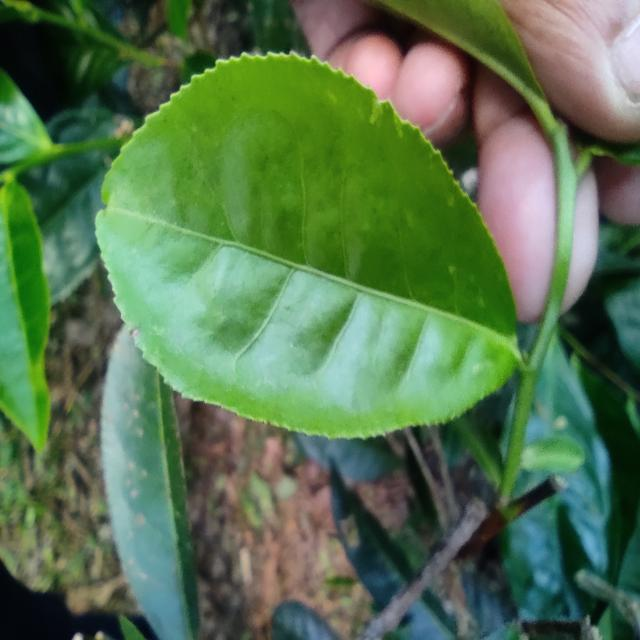Category C 4-7 days: (82, 17, 536, 466)
